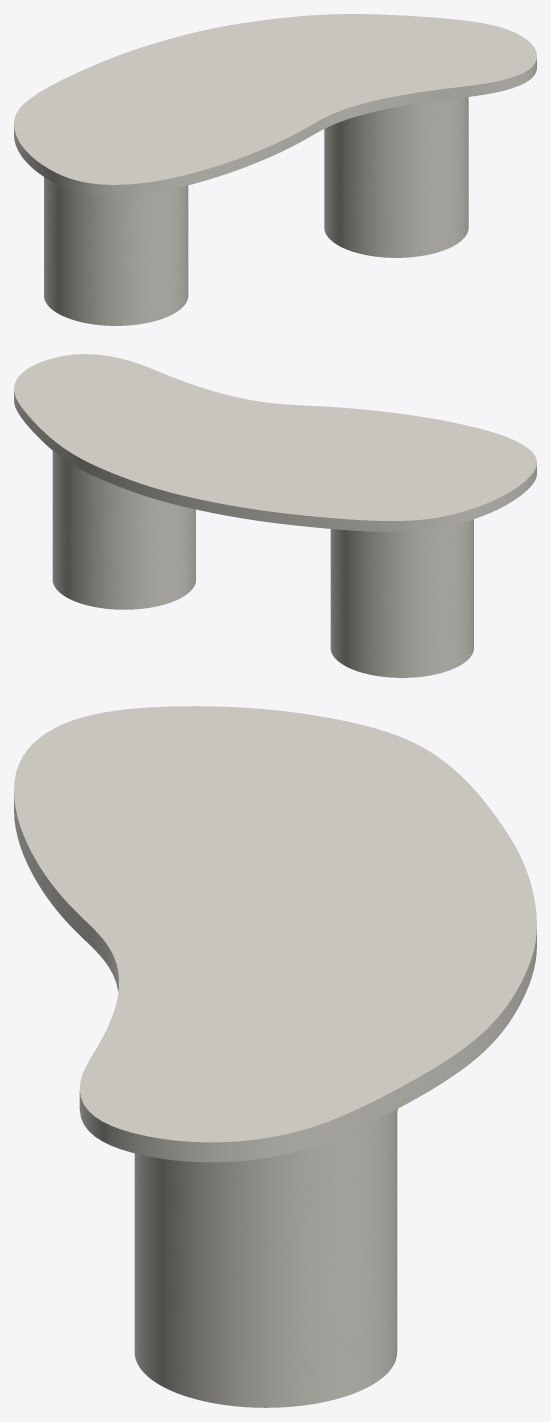
File: pale_leaf1_standard_stream.glb
3 renders of one model, top to bottom at view 1: azimuth 30°, elevation 25°; view 2: azimuth 150°, elevation 25°; view 3: azimuth 270°, elevation 25°, orthographic. The views are drawn at different scales.
Parts seen in each view (by area): view 1: standard_leaf1, stream; view 2: standard_leaf1, stream; view 3: standard_leaf1, stream.
Boxes of the visible parts, x1,y1,x2,y2 form: standard_leaf1: [14, 14, 536, 195]; stream: [44, 97, 468, 325]; standard_leaf1: [14, 354, 536, 531]; stream: [52, 451, 473, 677]; standard_leaf1: [14, 706, 536, 1162]; stream: [134, 1109, 397, 1407].
Bounding box in the file's own units: 7.5 × 2.5 × 3.8.
Materials: 1 (1 with a texture image).
